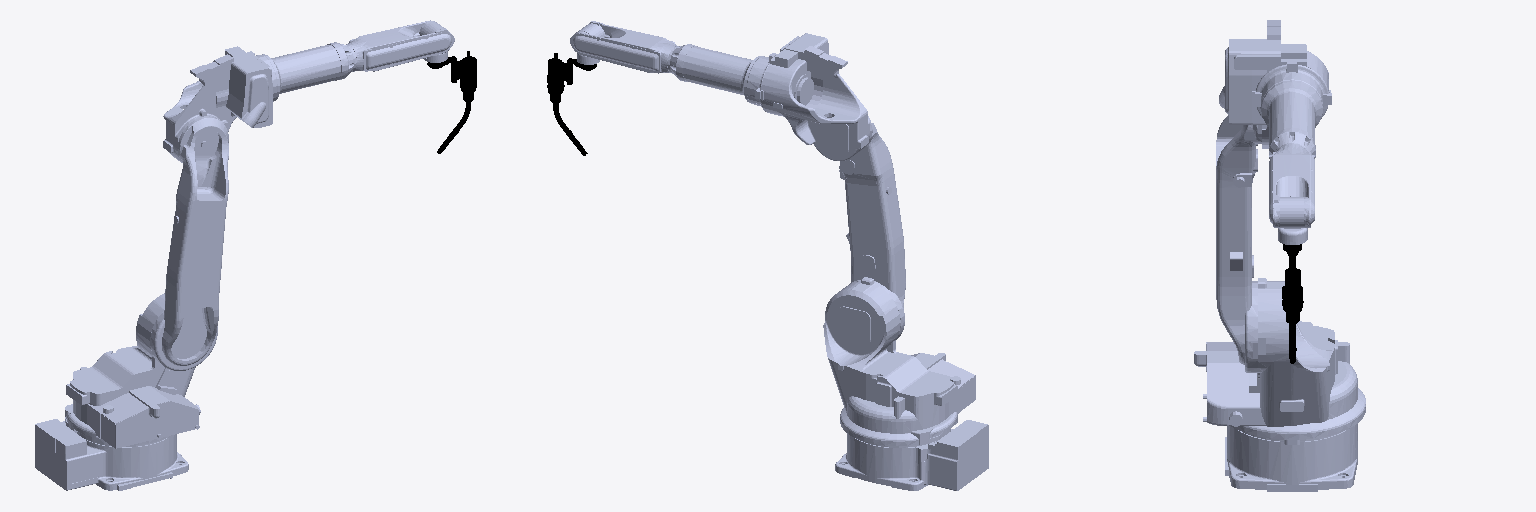
The robot description file, URDF, robot "welding_robot":
<?xml version="1.0"?>
<!-- This URDF was automatically created by SolidWorks to URDF Exporter! Originally created by [author] ([email redacted]) 
     Commit Version: 1.6.0-4-g7f85cfe  Build Version: 1.6.7995.38578
     For more information, please see http://wiki.ros.org/sw_urdf_exporter -->
<robot
  name="welding_robot">
  <link name="world"/>
    <joint name="base_joint" type="fixed">
    <parent link="world"/>
    <child link="base_link"/>
    <origin rpy="0 0 0" xyz="0.0 0.0 0.0"/>
  </joint>
  <link
    name="base_link">
    <inertial>
      <origin
        xyz="-0.055092 0.00050348 0.081633"
        rpy="0 0 0" />
      <mass
        value="24.355" />
      <inertia
        ixx="0.26628"
        ixy="0.0031172"
        ixz="0.019003"
        iyy="0.51507"
        iyz="-0.001216"
        izz="0.67125" />
    </inertial>
    <visual>
      <origin
        xyz="0 0 0"
        rpy="0 0 0" />
      <geometry>
        <mesh
          filename="package://Model_Robot/meshes/base_link.STL" />
      </geometry>
      <material
        name="">
        <color
          rgba="0.79608 0.82353 0.93725 1" />
      </material>
    </visual>
    <collision>
      <origin
        xyz="0 0 0"
        rpy="0 0 0" />
      <geometry>
        <mesh
          filename="package://Model_Robot/meshes/base_link.STL" />
      </geometry>
    </collision>
  </link>
  <link
    name="link_1">
    <inertial>
      <origin
        xyz="0.043093 -0.029565 0.15211"
        rpy="0 0 0" />
      <mass
        value="37.864" />
      <inertia
        ixx="0.88479"
        ixy="0.00066848"
        ixz="-0.27163"
        iyy="1.0858"
        iyz="0.022691"
        izz="0.95843" />
    </inertial>
    <visual>
      <origin
        xyz="0 0 0"
        rpy="0 0 0" />
      <geometry>
        <mesh
          filename="package://Model_Robot/meshes/link_1.STL" />
      </geometry>
      <material
        name="">
        <color
          rgba="0.79608 0.82353 0.93725 1" />
      </material>
    </visual>
    <collision>
      <origin
        xyz="0 0 0"
        rpy="0 0 0" />
      <geometry>
        <mesh
          filename="package://Model_Robot/meshes/link_1.STL" />
      </geometry>
    </collision>
  </link>
  <joint
    name="joint_1"
    type="revolute">
    <origin
      xyz="0 0 0.159"
      rpy="0 0 0" />
    <parent
      link="base_link" />
    <child
      link="link_1" />
    <axis
      xyz="0 0 1" />
    <limit
      lower="-1.92"
      upper="2.18"
      effort="50"
      velocity="3.14" />
  </joint>
  <link
    name="link_2">
    <inertial>
      <origin
        xyz="0.322531944252289 0.016768968112219 0.0655715195241371"
        rpy="0 0 0" />
      <mass
        value="13.1218110883929" />
      <inertia
        ixx="0.0613928223185592"
        ixy="-0.00984777192152513"
        ixz="-0.00566293332390189"
        iyy="0.721461951554775"
        iyz="-0.00320350237459472"
        izz="0.750211857202955" />
    </inertial>
    <visual>
      <origin
        xyz="0 0 0"
        rpy="0 0 0" />
      <geometry>
        <mesh
          filename="package://Model_Robot/meshes/link_2.STL" />
      </geometry>
      <material
        name="">
        <color
          rgba="0.796078431372549 0.823529411764706 0.937254901960784 1" />
      </material>
    </visual>
    <collision>
      <origin
        xyz="0 0 0"
        rpy="0 0 0" />
      <geometry>
        <mesh
          filename="package://Model_Robot/meshes/link_2.STL" />
      </geometry>
    </collision>
  </link>
  <joint
    name="joint_2"
    type="revolute">
    <origin
      xyz="0.185 -0.088997 0.368"
      rpy="1.5708 -1.4486 0" />
    <parent
      link="link_1" />
    <child
      link="link_2" />
    <axis
      xyz="0 0 1" />
    <limit
      lower="-2.27"
      upper="1.83"
      effort="50"
      velocity="3.05" />
  </joint>
  <link
    name="link_3">
    <inertial>
      <origin
        xyz="0.1162088013832 -0.122787977475344 -0.0435188077397374"
        rpy="0 0 0" />
      <mass
        value="12.8705643704904" />
      <inertia
        ixx="0.177972798177143"
        ixy="0.0715950113237603"
        ixz="-0.0119270409293873"
        iyy="0.179130160810532"
        iyz="0.00624429181054865"
        izz="0.233170305649054" />
    </inertial>
    <visual>
      <origin
        xyz="0 0 0"
        rpy="0 0 0" />
      <geometry>
        <mesh
          filename="package://Model_Robot/meshes/link_3.STL" />
      </geometry>
      <material
        name="">
        <color
          rgba="0.796078431372549 0.823529411764706 0.937254901960784 1" />
      </material>
    </visual>
    <collision>
      <origin
        xyz="0 0 0"
        rpy="0 0 0" />
      <geometry>
        <mesh
          filename="package://Model_Robot/meshes/link_3.STL" />
      </geometry>
    </collision>
  </link>
  <joint
    name="joint_3"
    type="revolute">
    <origin
      xyz="0.76 0 0"
      rpy="0 0 0.12217" />
    <parent
      link="link_2" />
    <child
      link="link_3" />
    <axis
      xyz="0 0 1" />
    <limit
      lower="-1.2"
      upper="3.9"
      effort="50"
      velocity="3.26" />
  </joint>
  <link
    name="link_4">
    <inertial>
      <origin
        xyz="0.000151499759808216 -1.26779410401987E-05 0.320650312286161"
        rpy="0 0 0" />
      <mass
        value="10.9636338649939" />
      <inertia
        ixx="0.593656045844217"
        ixy="-3.5090017742871E-06"
        ixz="0.000455679783979847"
        iyy="0.590589394382272"
        iyz="-0.000141534354765261"
        izz="0.0301073857391874" />
    </inertial>
    <visual>
      <origin
        xyz="0 0 0"
        rpy="0 0 0" />
      <geometry>
        <mesh
          filename="package://Model_Robot/meshes/link_4.STL" />
      </geometry>
      <material
        name="">
        <color
          rgba="0.796078431372549 0.823529411764706 0.937254901960784 1" />
      </material>
    </visual>
    <collision>
      <origin
        xyz="0 0 0"
        rpy="0 0 0" />
      <geometry>
        <mesh
          filename="package://Model_Robot/meshes/link_4.STL" />
      </geometry>
    </collision>
  </link>
  <joint
    name="joint_4"
    type="revolute">
    <origin
      xyz="0.15 -0.24999989692236 -0.0889973189551264"
      rpy="1.5707963267949 0 0" />
    <parent
      link="link_3" />
    <child
      link="link_4" />
    <axis
      xyz="0 0 1" />
    <limit
      lower="-3.49"
      upper="3.49"
      effort="39.2"
      velocity="6.98" />
  </joint>
  <link
    name="link_5">
    <inertial>
      <origin
        xyz="1.10277441534024E-06 -0.0163819033093957 -0.000703739989478771"
        rpy="0 0 0" />
      <mass
        value="0.647181621783786" />
      <inertia
        ixx="0.0010096656661988"
        ixy="-4.32455428647735E-21"
        ixz="-9.20807527385761E-21"
        iyy="0.000613022482052175"
        iyz="-5.7298713473805E-06"
        izz="0.00106303411760708" />
    </inertial>
    <visual>
      <origin
        xyz="0 0 0"
        rpy="0 0 0" />
      <geometry>
        <mesh
          filename="package://Model_Robot/meshes/link_5.STL" />
      </geometry>
      <material
        name="">
        <color
          rgba="0.796078431372549 0.823529411764706 0.937254901960784 1" />
      </material>
    </visual>
    <collision>
      <origin
        xyz="0 0 0"
        rpy="0 0 0" />
      <geometry>
        <mesh
          filename="package://Model_Robot/meshes/link_5.STL" />
      </geometry>
    </collision>
  </link>
  <joint
    name="joint_5"
    type="revolute">
    <origin
      xyz="0 0 0.799"
      rpy="1.5713 -1.5708 3.1416" />
    <parent
      link="link_4" />
    <child
      link="link_5" />
    <axis
      xyz="0 0 1" />
    <limit
      lower="-0.9"
      upper="2.44"
      effort="39.2"
      velocity="6.98" />
  </joint>
  <link
    name="link_6">
    <inertial>
      <origin
        xyz="-3.77260069790628E-05 7.1920767168443E-05 0.00717110014148004"
        rpy="0 0 0" />
      <mass
        value="0.0814924571831917" />
      <inertia
        ixx="3.61980639441895E-05"
        ixy="-4.56929990036985E-12"
        ixz="-1.51153691200983E-08"
        iyy="3.64543788711688E-05"
        iyz="9.94708278543366E-09"
        izz="6.91032790959987E-05" />
    </inertial>
    <visual>
      <origin
        xyz="0 0 0"
        rpy="0 0 0" />
      <geometry>
        <mesh
          filename="package://Model_Robot/meshes/link_6.STL" />
      </geometry>
      <material
        name="">
        <color
          rgba="0.796078431372549 0.823529411764706 0.937254901960784 1" />
      </material>
    </visual>
    <collision>
      <origin
        xyz="0 0 0"
        rpy="0 0 0" />
      <geometry>
        <mesh
          filename="package://Model_Robot/meshes/link_6.STL" />
      </geometry>
    </collision>
  </link>
  <joint
    name="joint_6"
    type="revolute">
    <origin
      xyz="0 -0.074956 -0.0011881"
      rpy="0 -1.5703 1.5708" />
    <parent
      link="link_5" />
    <child
      link="link_6" />
    <axis
      xyz="0 0 1" />
    <limit
      lower="-6.28"
      upper="6.28"
      effort="19.6"
      velocity="10.47" />
  </joint>
  <link
    name="Gun_welding">
    <inertial>
      <origin
        xyz="-0.15092 1.8884E-05 -0.28501"
        rpy="0 0 0" />
      <mass
        value="0.35981" />
      <inertia
        ixx="0.0001671"
        ixy="1.351E-07"
        ixz="1.7797E-06"
        iyy="0.00025195"
        iyz="-6.2037E-08"
        izz="0.00020434" />
    </inertial>
    <visual>
      <origin
        xyz="0 0 0"
        rpy="0 0 0" />
      <geometry>
        <mesh
          filename="package://Model_Robot/meshes/Gun_welding.STL" />
      </geometry>
      <material
        name="">
        <color
          rgba="0 0 0 1" />
      </material>
    </visual>
    <collision>
      <origin
        xyz="0 0 0"
        rpy="0 0 0" />
      <geometry>
        <mesh
          filename="package://Model_Robot/meshes/Gun_welding.STL" />
      </geometry>
    </collision>
  </link>
  <joint
    name="Joint_gun"
    type="fixed">
    <origin
      xyz="-0.000223 -0.0035144 0.41051"
      rpy="0.00064957 -0.7854 -1.5713" />
    <parent
      link="link_6" />
    <child
      link="Gun_welding" />
    <axis
      xyz="0 0 0" />
  </joint>

</robot>



--- What the picture shows (computed from the rendered views, not written in the file) ---
The picture shows the robot from 3 angles, left to right: view 1: azimuth 30°, elevation 25°; view 2: azimuth 150°, elevation 25°; view 3: azimuth 270°, elevation 25°; orthographic projection.
Model welding_robot with 9 links and 8 joints (6 revolute, 2 fixed), rooted at world, posed every joint at zero.
Links seen in each view (by area): view 1: link_2, link_1, base_link, link_4, link_3, Gun_welding; view 2: link_1, link_3, link_2, link_4, base_link, Gun_welding; view 3: link_1, link_2, link_4, base_link, link_3, Gun_welding, link_5.
Link boxes in pixels (x1,y1,x2,y2): link_2: (150, 116, 228, 370); link_1: (65, 293, 200, 448); base_link: (35, 419, 188, 490); link_4: (247, 20, 454, 101); link_3: (163, 46, 272, 162); Gun_welding: (427, 51, 476, 153); link_1: (823, 277, 975, 447); link_3: (761, 33, 869, 160); link_2: (839, 116, 905, 339); link_4: (570, 21, 776, 111); base_link: (835, 420, 988, 490); Gun_welding: (547, 53, 596, 155); link_1: (1194, 278, 1365, 444); link_2: (1216, 115, 1261, 372); link_4: (1255, 61, 1331, 227); base_link: (1225, 424, 1357, 491); link_3: (1219, 20, 1330, 148); Gun_welding: (1282, 244, 1303, 363); link_5: (1278, 197, 1307, 241).
Size in the robot's own frame: 1.82 by 0.507 by 1.59 metres.
8 mesh visuals loaded from 8 distinct referenced files (8 binary STL).